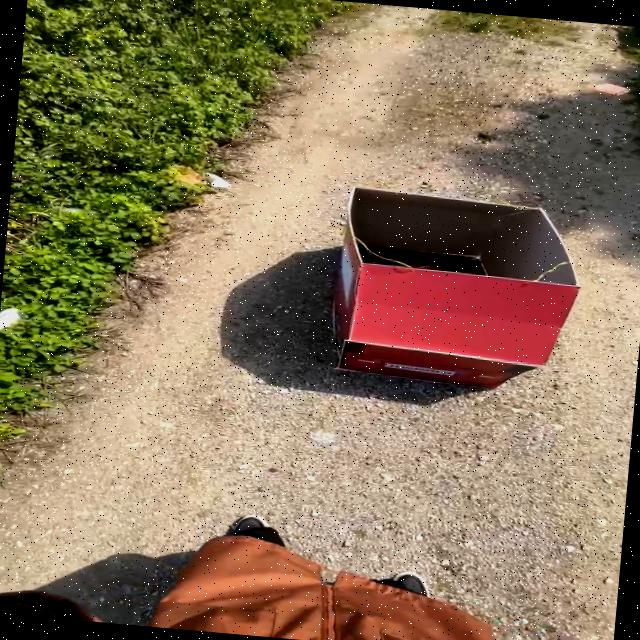red_car: (288, 172, 611, 404)
